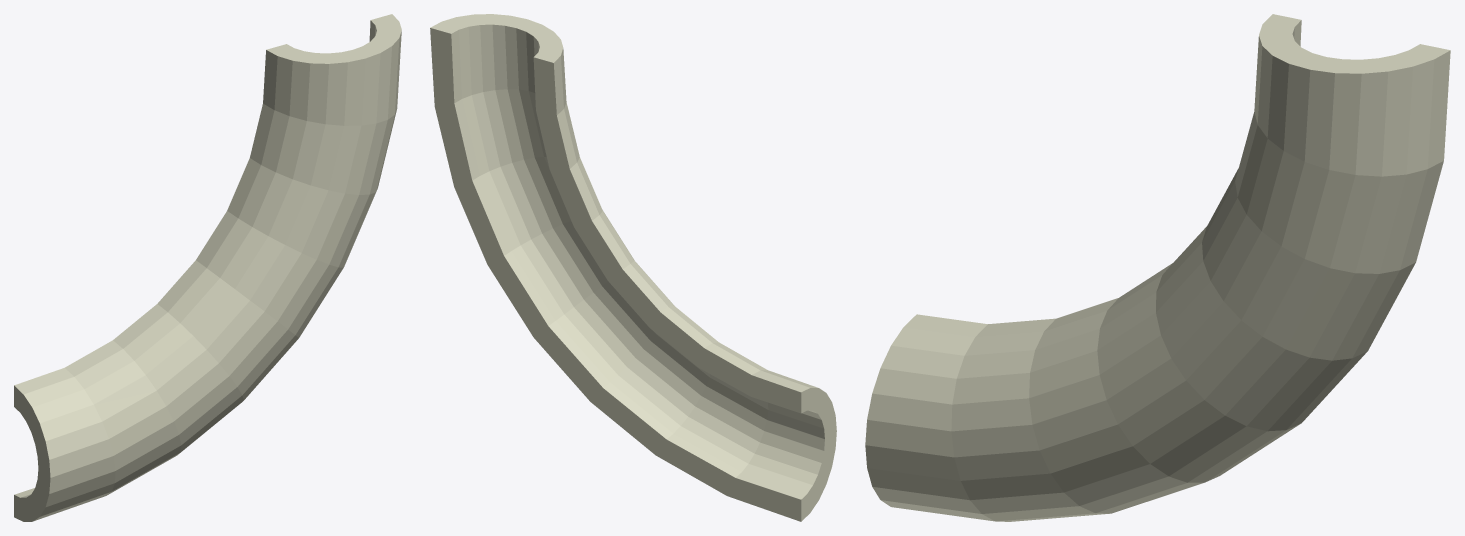
File: section_143.obj
3 renders of one model, left to right at view 1: azimuth 30°, elevation 25°; view 2: azimuth 150°, elevation 25°; view 3: azimuth 330°, elevation 25°, orthographic. The views are drawn at different scales.
Bounding box in the file's own units: 17.99 × 18.69 × 3.
